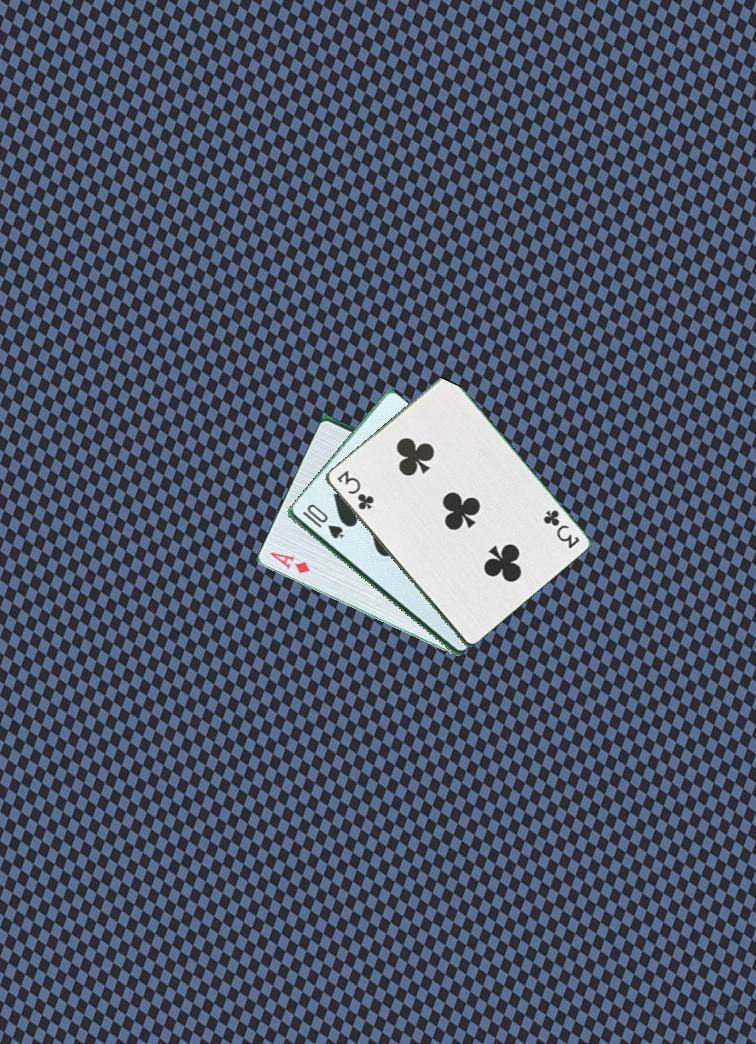3c: (534, 503, 582, 552), (333, 467, 381, 513)
ad: (266, 548, 313, 577)
ts: (299, 501, 347, 542)
